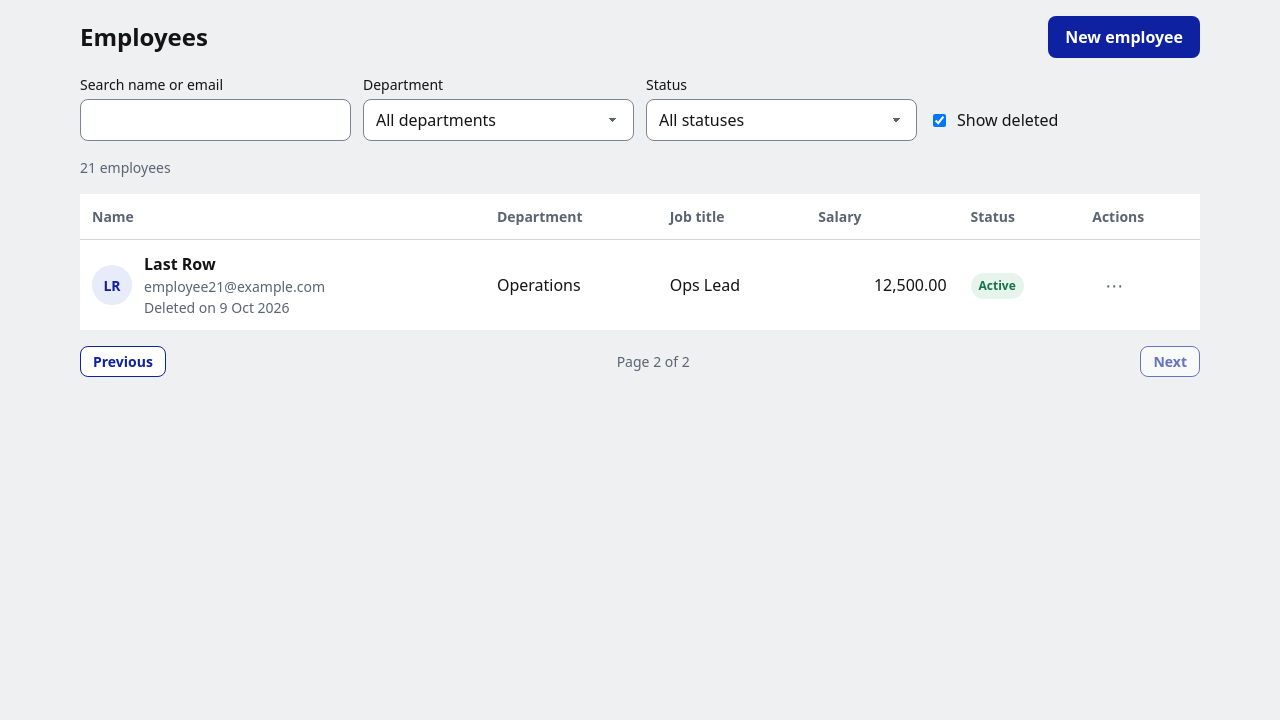
Scenario: EmployeesPage - deleted view and restore › moves to the previous page when restoring the last row of page 2
Expected: the table is shown, 80,194 -> 1200,330
Click the button named "actions" at (1114, 285), box 1092,266 -> 1136,304
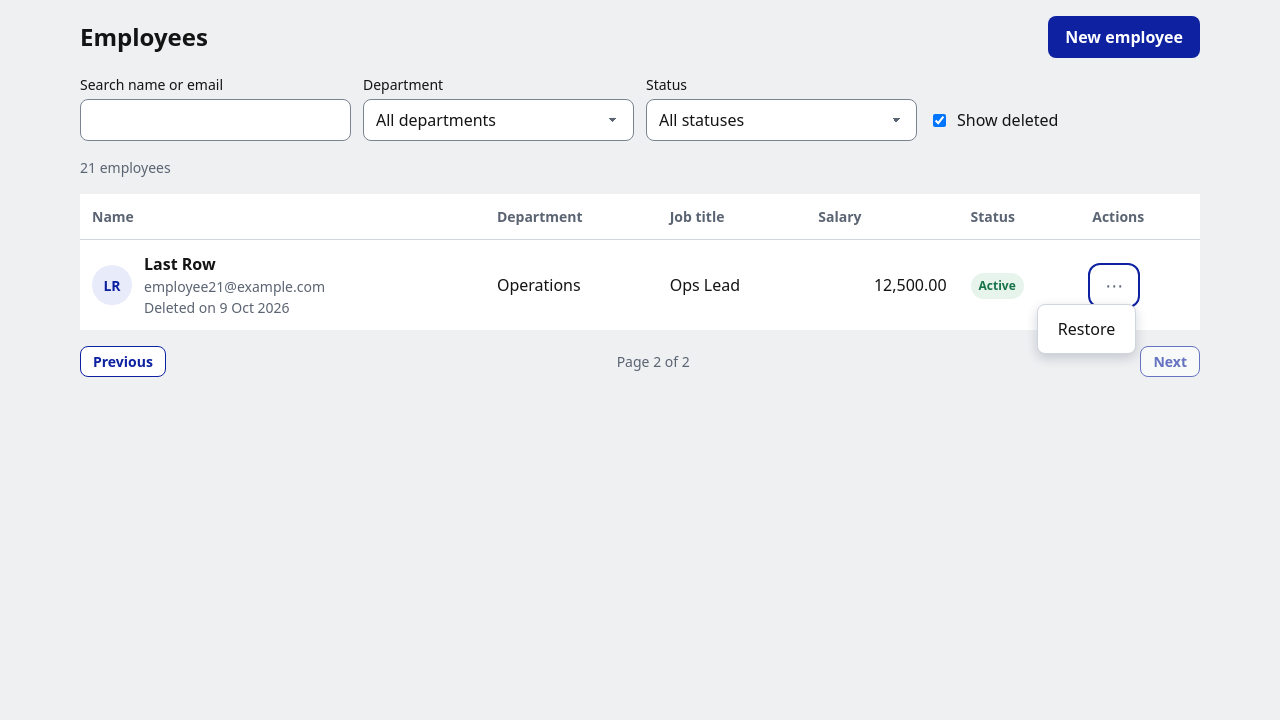
Click the menu item "Restore" at (1086, 328), box 1042,308 -> 1131,348
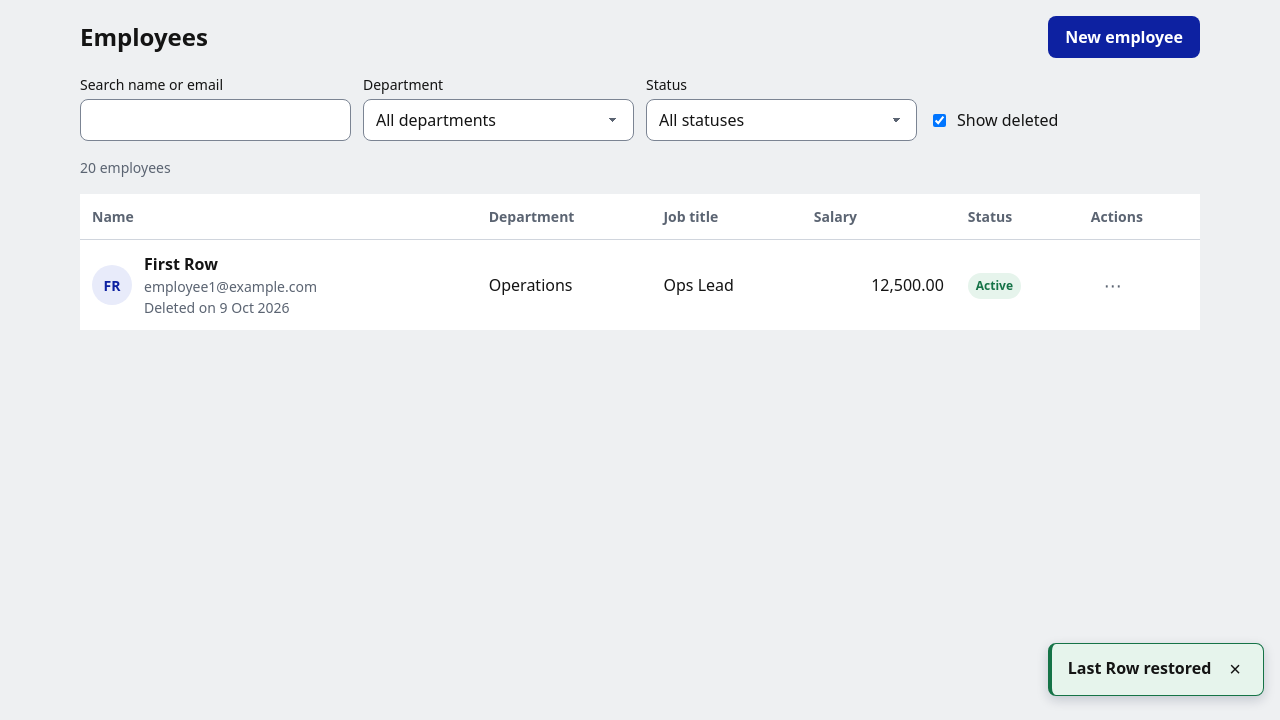
Expected: the text "First Row" is shown, 144,253 -> 218,275
